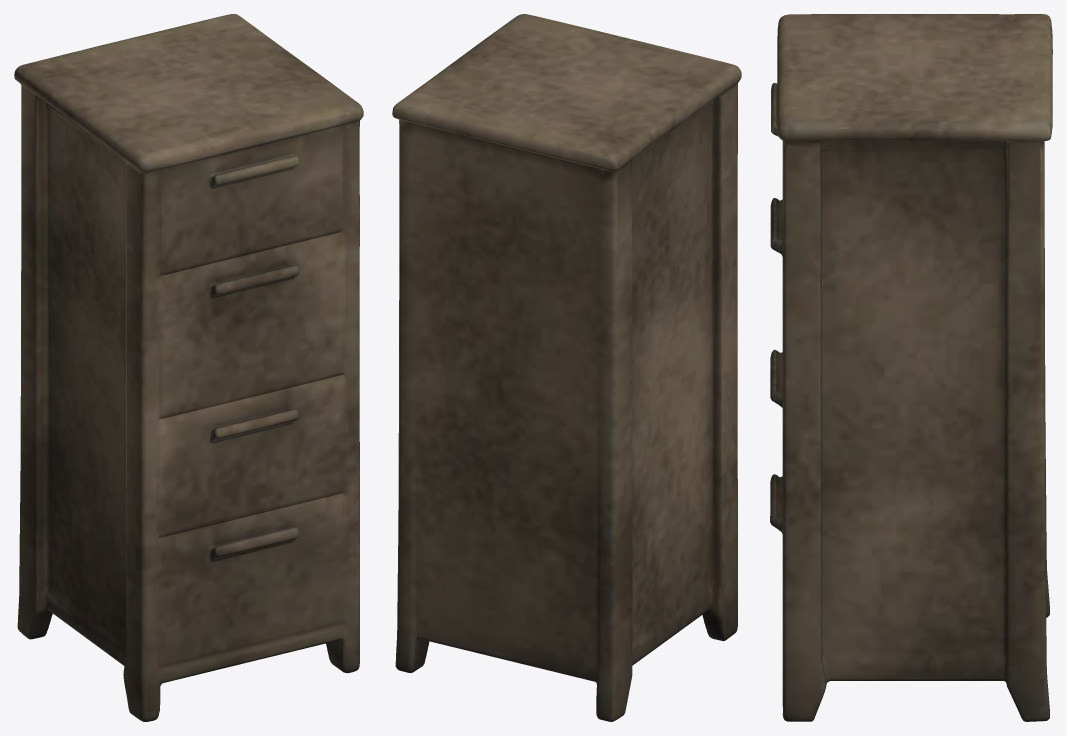
File: simple-wood-filing-cabinet-v002.glb
3 views of the same model, side by side, from view 1: azimuth 30°, elevation 25°; view 2: azimuth 150°, elevation 25°; view 3: azimuth 270°, elevation 25° (orthographic). The views are drawn at different scales.
Visible parts, largest first — view 1: simple-wood-filing-cabinet; view 2: simple-wood-filing-cabinet; view 3: simple-wood-filing-cabinet.
Boxes of the visible parts, x1,y1,x2,y2 form: simple-wood-filing-cabinet: [14, 14, 363, 721]; simple-wood-filing-cabinet: [392, 14, 741, 721]; simple-wood-filing-cabinet: [770, 14, 1052, 721].
Bounding box in the file's own units: 0.6099 × 1.47 × 0.6286.
1 material, 1 textured.
